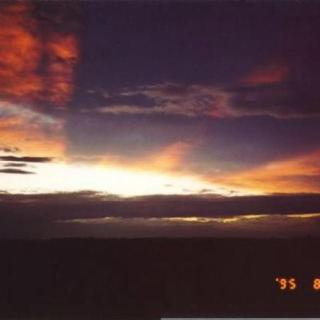Altostratus: (0, 1, 320, 222)
